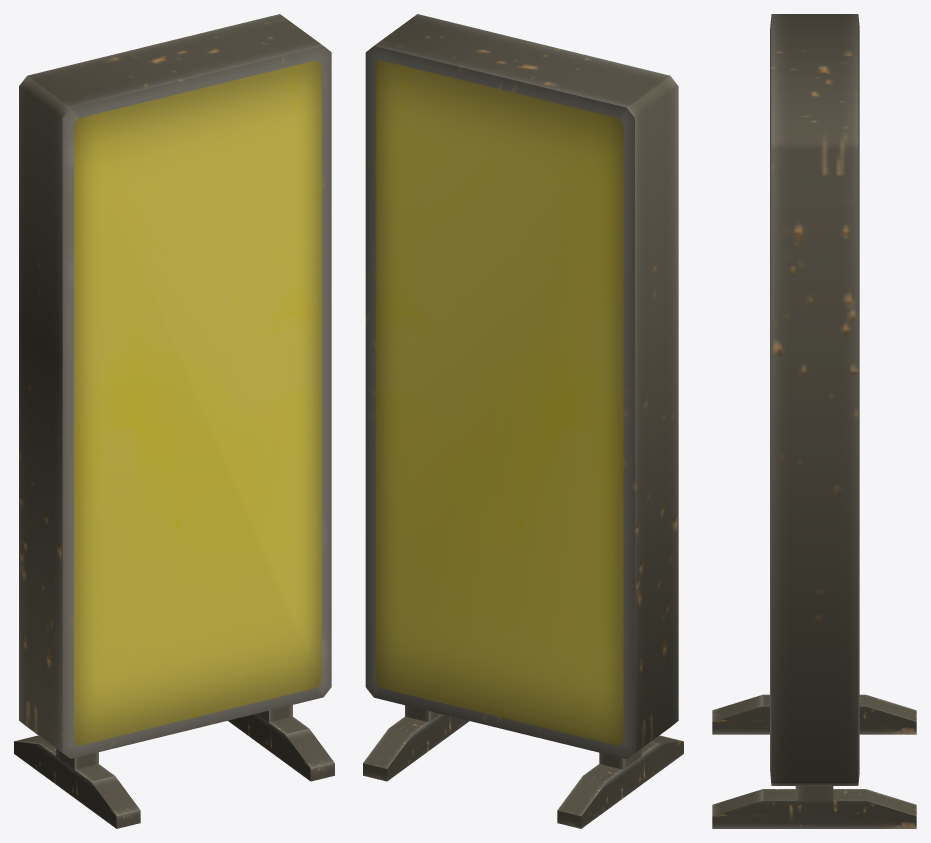
Rendered from menustand02c.fbx.
3 views of the same model, side by side, from view 1: azimuth 30°, elevation 25°; view 2: azimuth 150°, elevation 25°; view 3: azimuth 270°, elevation 25° (orthographic).
Parts seen in each view (by area): view 1: menustand02c; view 2: menustand02c; view 3: menustand02c.
Boxes of the visible parts, <box> form: menustand02c: <box>14,14,334,828</box>; menustand02c: <box>363,14,683,828</box>; menustand02c: <box>712,14,916,828</box>.
Size of the model in its own units: 45.6 by 114 by 30.12.
